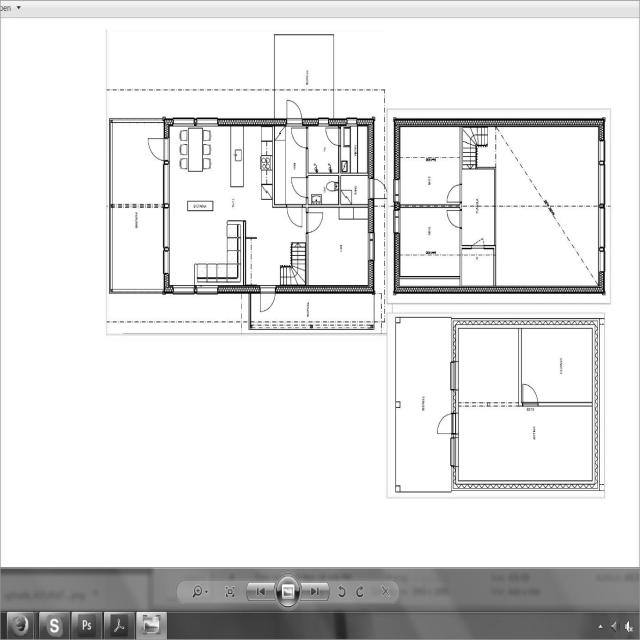door: (287, 174, 306, 230), (445, 181, 463, 230), (146, 135, 168, 162), (284, 97, 304, 126), (258, 284, 277, 314), (435, 410, 456, 436), (520, 379, 540, 405), (305, 208, 324, 234), (289, 175, 309, 199), (286, 203, 304, 229), (368, 178, 387, 202), (445, 207, 464, 230), (290, 126, 308, 150), (445, 182, 463, 204), (325, 127, 341, 147), (470, 236, 486, 250)
window: (112, 285, 165, 296), (596, 204, 608, 252), (448, 358, 459, 393), (366, 228, 376, 263), (194, 282, 219, 296), (393, 205, 402, 237), (172, 284, 196, 296), (194, 116, 220, 127), (172, 116, 196, 126), (393, 176, 402, 202), (162, 248, 170, 274), (598, 249, 607, 272), (318, 118, 330, 128), (346, 118, 360, 126)
zone: (494, 122, 601, 290), (167, 124, 270, 287), (454, 405, 600, 484), (394, 320, 454, 488), (520, 326, 596, 406), (307, 206, 373, 290), (455, 326, 521, 407), (397, 206, 462, 286), (398, 122, 456, 207), (110, 206, 167, 291), (462, 167, 495, 248), (306, 126, 340, 174), (340, 126, 371, 175), (461, 247, 495, 287), (307, 174, 340, 206), (338, 174, 371, 206)
